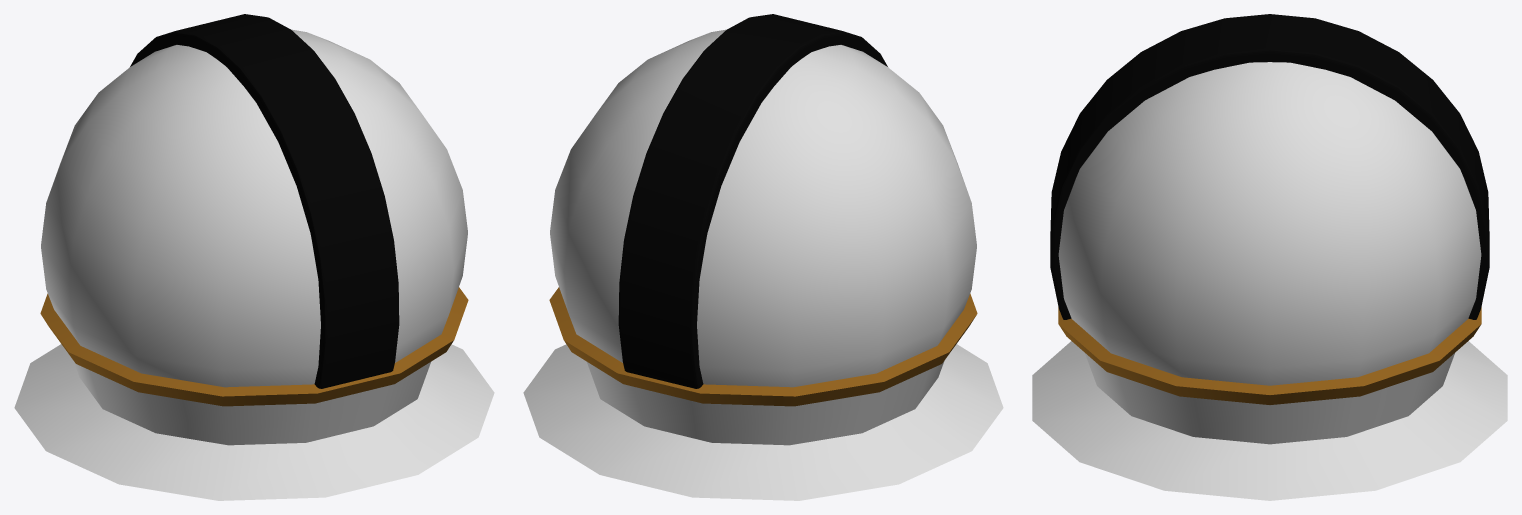
Rendered from dome1.fbx.
The picture shows the model from 3 angles, left to right: view 1: azimuth 30°, elevation 25°; view 2: azimuth 150°, elevation 25°; view 3: azimuth 270°, elevation 25°; orthographic projection.
Visible parts, largest first — view 1: polySurface1; view 2: polySurface1; view 3: polySurface1.
Part boxes in pixels (box(x1,y1,x2,y2)): polySurface1: box(14, 14, 494, 500); polySurface1: box(523, 14, 1003, 500); polySurface1: box(1032, 14, 1507, 500).
Size of the model in its own units: 2.25 by 1.87 by 2.19.
